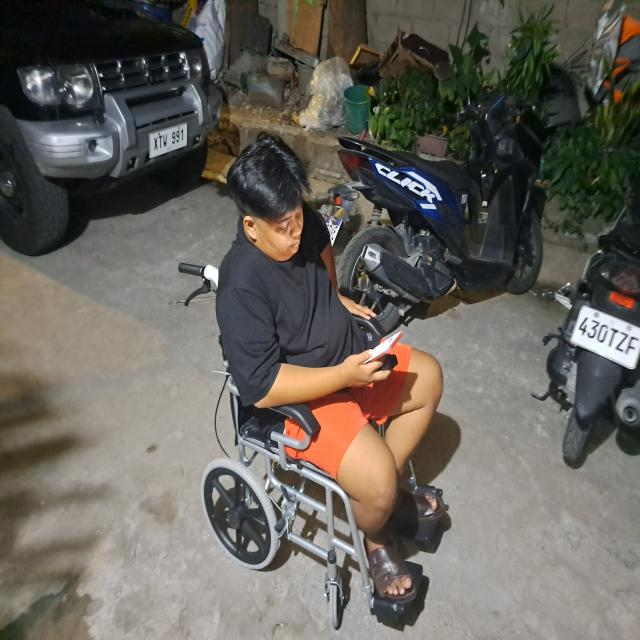wheelchairs: (170, 257, 457, 638)
